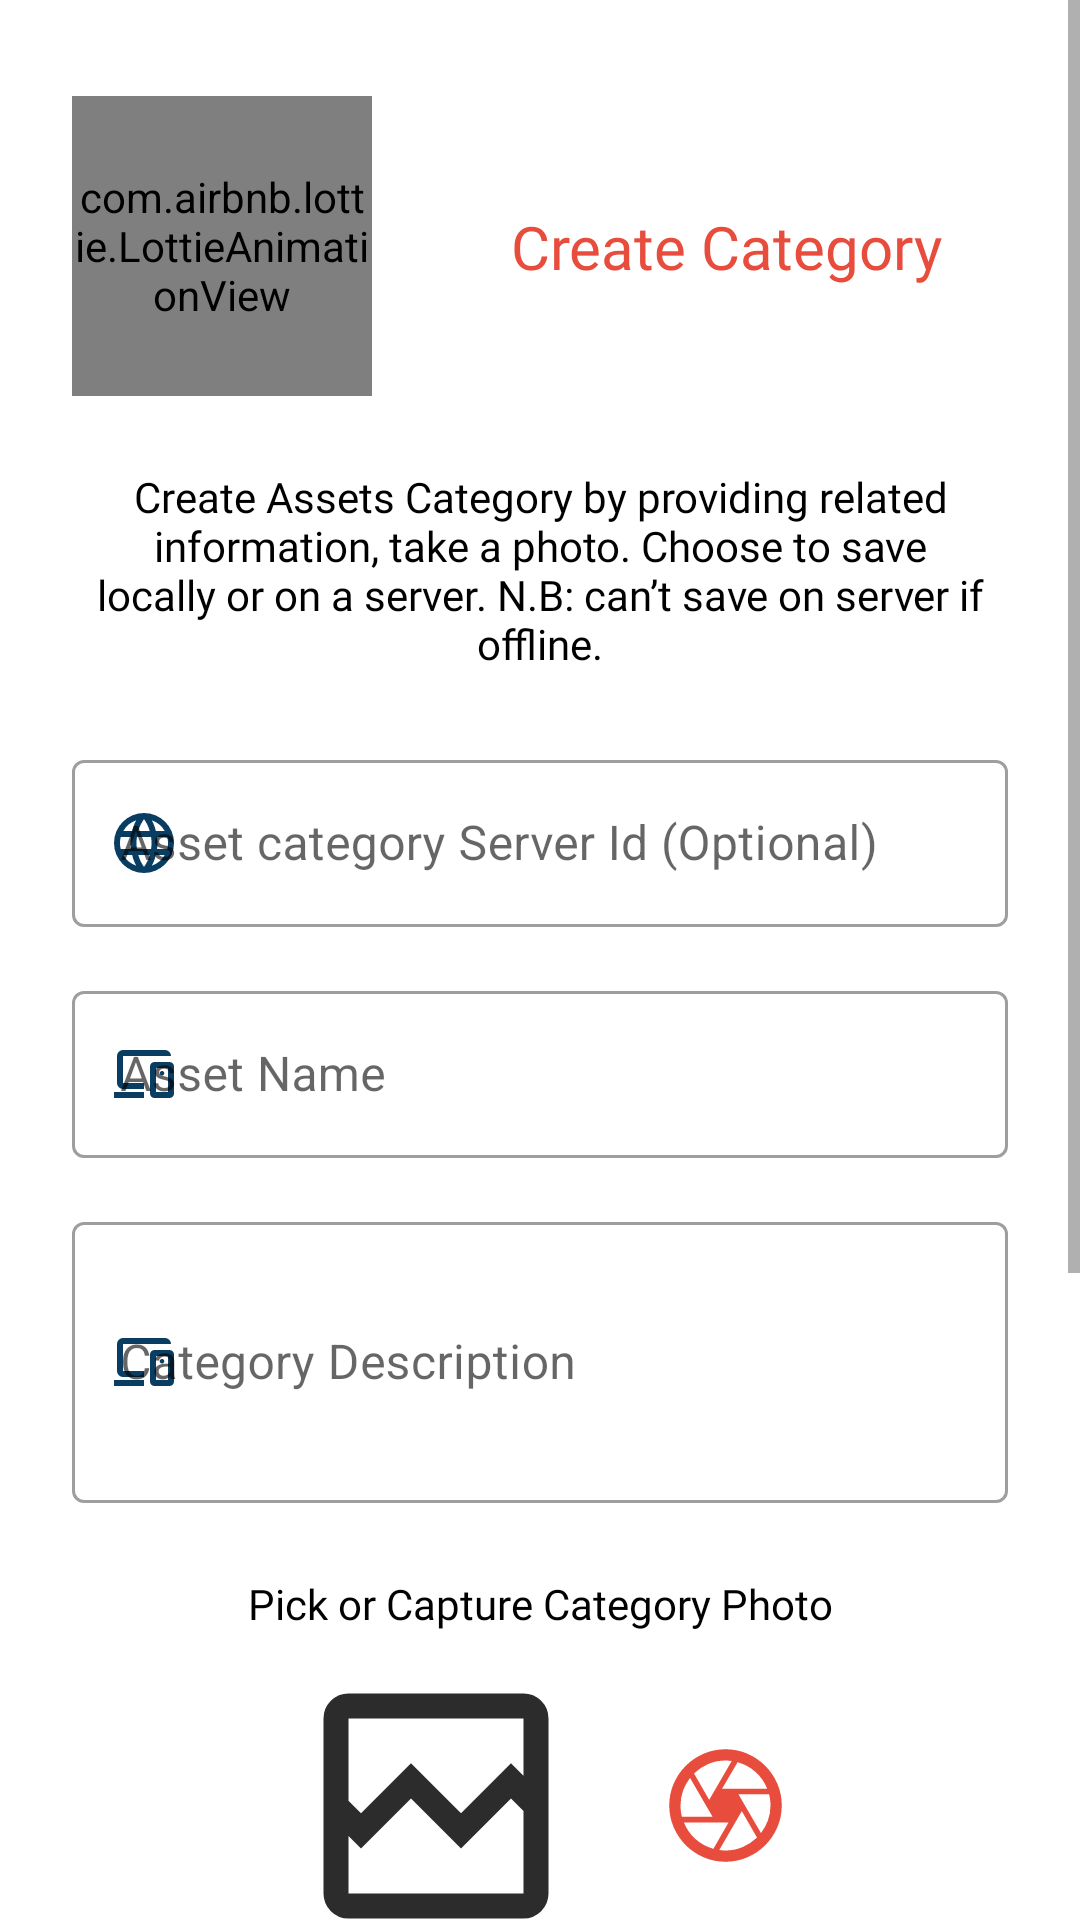

Icons on this 1080 × 1920 Android screen, each with its box as detection(x1, y1, x2, y2):
camera: detection(669, 1749, 782, 1862)
